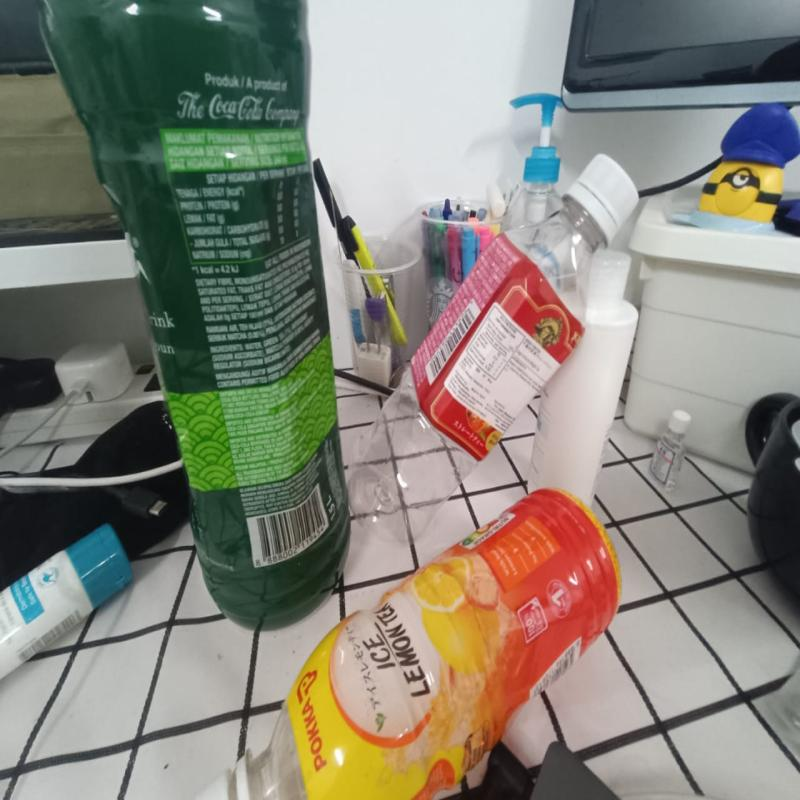botella: (38, 0, 350, 628), (231, 485, 621, 800), (354, 138, 644, 546)
